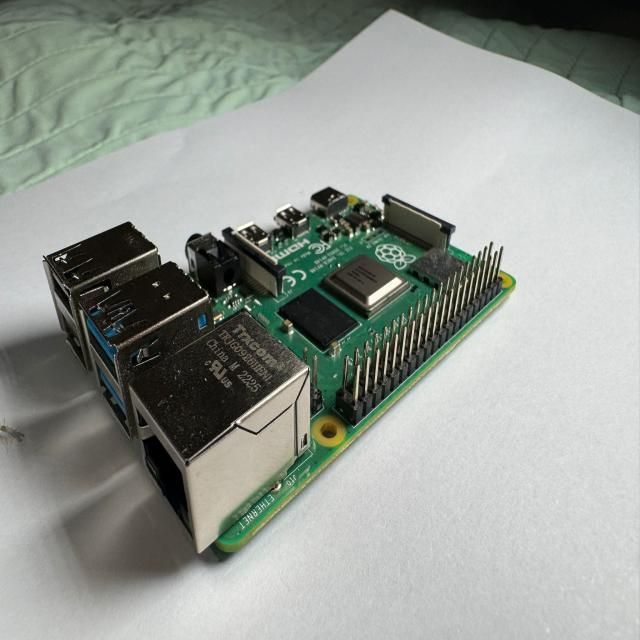CPU: (324, 255, 410, 321)
Ethernet: (126, 305, 318, 560)
GPIO: (334, 240, 509, 427)
RAM: (278, 289, 366, 355)
Raspberry: (42, 190, 518, 565)
micro-hdmi: (272, 203, 315, 238), (238, 219, 278, 254)
